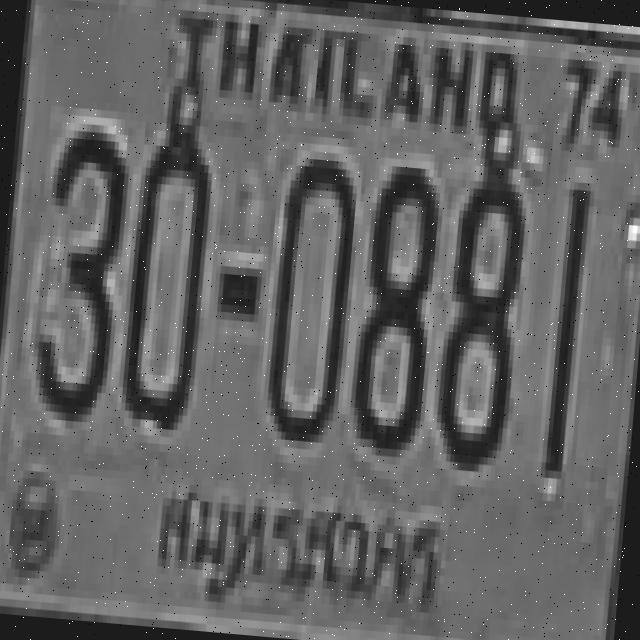0: (115, 116, 212, 426), (260, 148, 360, 444)
1: (541, 185, 586, 468)
3: (28, 121, 128, 416)
8: (429, 164, 525, 466), (347, 156, 438, 450)
SamutSakhon: (146, 465, 454, 627)
